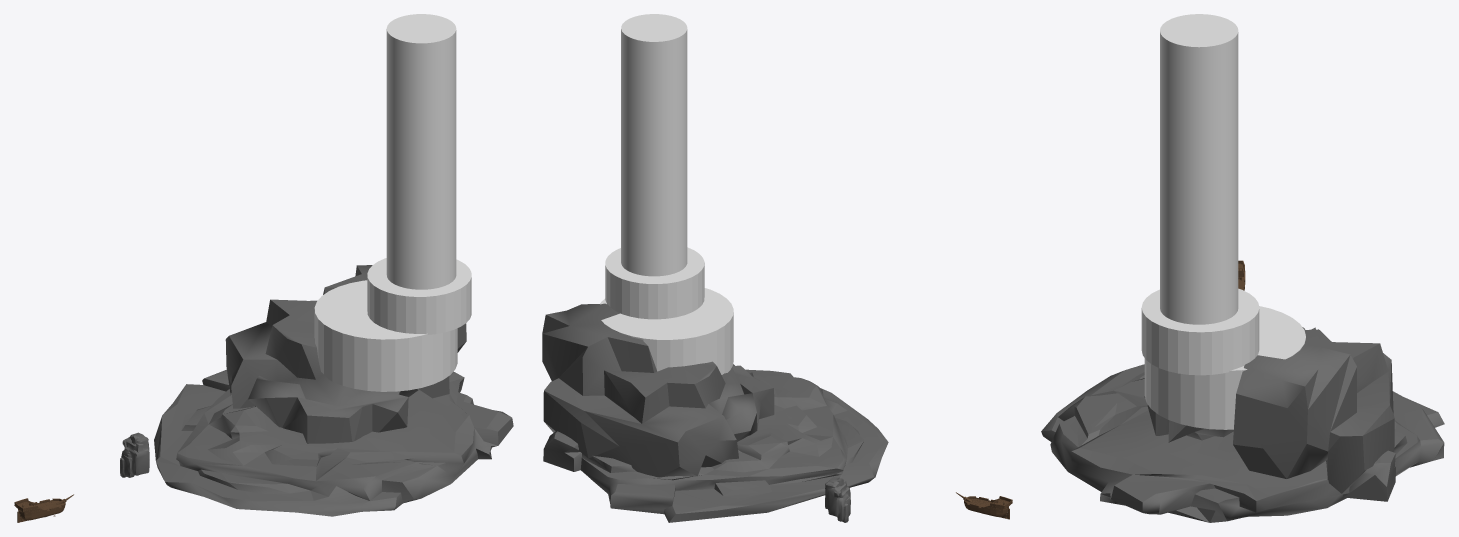
Rendered from cliff_3.fbx.
The picture shows the model from 3 angles, left to right: view 1: azimuth 30°, elevation 25°; view 2: azimuth 150°, elevation 25°; view 3: azimuth 270°, elevation 25°; orthographic projection. The views are drawn at different scales.
Visible parts, largest first — view 1: Cube.011, Cylinder, Plane.001, Cylinder.002, Cylinder.003, Cube.001, ship; view 2: Plane.001, Cube.011, Cylinder, Cylinder.002, Cylinder.003, Cube.001, ship; view 3: Cube.011, Cylinder, Plane.001, Cylinder.003, Cylinder.002.
Boxes of the visible parts, x1,y1,x2,y2 form: Cube.011: [154, 369, 513, 516]; Cylinder: [386, 14, 456, 289]; Plane.001: [225, 265, 466, 443]; Cylinder.002: [314, 280, 457, 391]; Cylinder.003: [367, 258, 471, 334]; Cube.001: [120, 432, 149, 477]; ship: [14, 494, 73, 522]; Plane.001: [542, 303, 774, 477]; Cube.011: [543, 364, 888, 522]; Cylinder: [621, 14, 687, 276]; Cylinder.002: [600, 288, 733, 374]; Cylinder.003: [605, 247, 704, 319]; Cube.001: [825, 476, 850, 522]; ship: [956, 492, 1012, 519]; Cube.011: [1041, 364, 1444, 522]; Cylinder: [1160, 14, 1238, 324]; Plane.001: [1147, 327, 1394, 493]; Cylinder.003: [1141, 288, 1259, 375]; Cylinder.002: [1144, 306, 1305, 429].
Bounding box in the file's own units: 20294 × 17898 × 13742.
